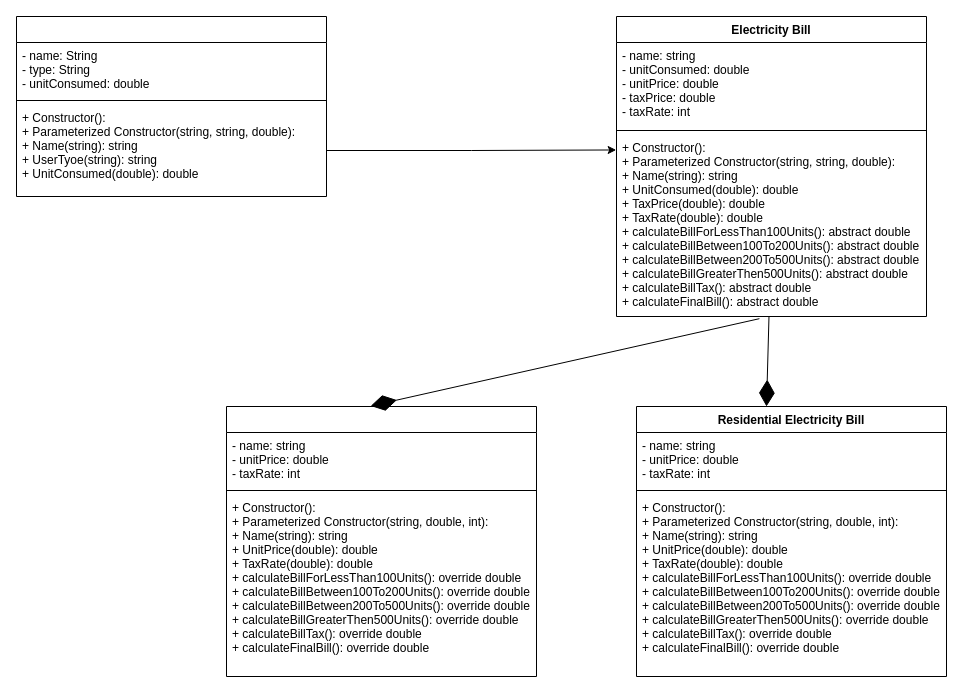
The diagram is 963 pixels wide and 693 high, and some of its shapes have lost their labels. The box of each missing label's shape, as (x1, y1, x2, y2) in pixels:
Commercial Electricity Bill: (226, 406, 536, 676)
Users: (16, 16, 326, 196)
